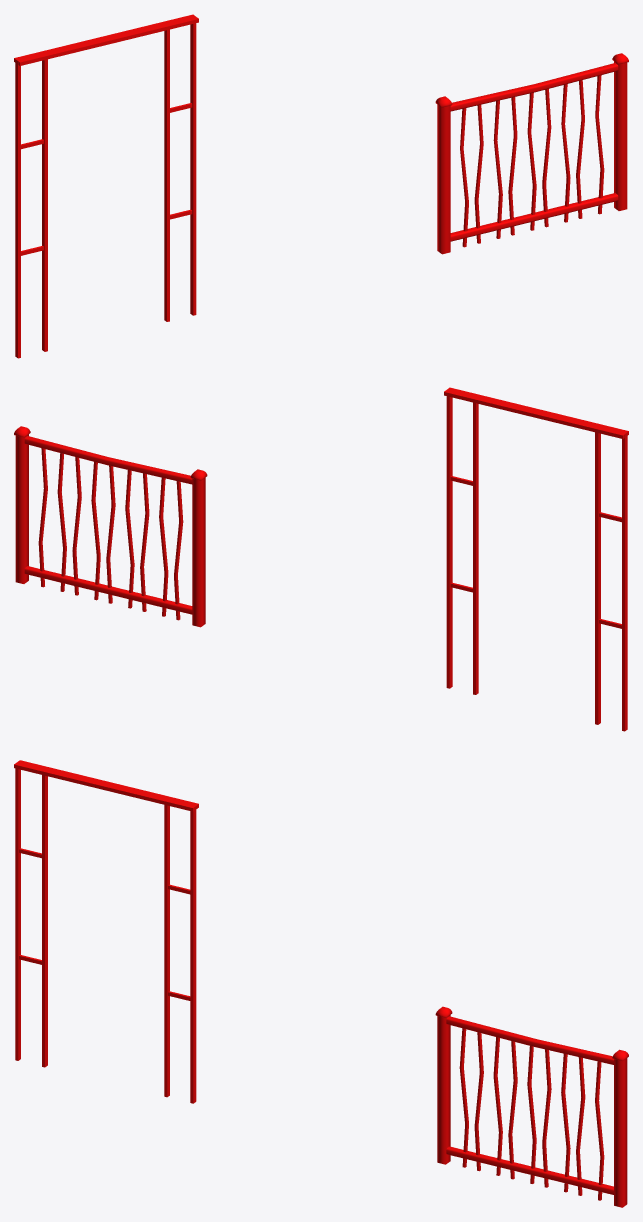
The model's file is Fence_Doorframe.fbx.
3 renders of one model, top to bottom at view 1: azimuth 30°, elevation 25°; view 2: azimuth 150°, elevation 25°; view 3: azimuth 330°, elevation 25°, orthographic.
Visible parts, largest first — view 1: Ironfence, DoorFrame; view 2: Ironfence, DoorFrame; view 3: Ironfence, DoorFrame.
Part boxes in pixels (left/top/right/bottom): Ironfence: left=435, top=53, right=628, bottom=254; DoorFrame: left=14, top=14, right=198, bottom=358; Ironfence: left=14, top=426, right=207, bottom=627; DoorFrame: left=444, top=387, right=628, bottom=731; Ironfence: left=435, top=1006, right=628, bottom=1207; DoorFrame: left=14, top=760, right=198, bottom=1103.
Size of the model in its own units: 30.93 by 14.41 by 0.5315.
